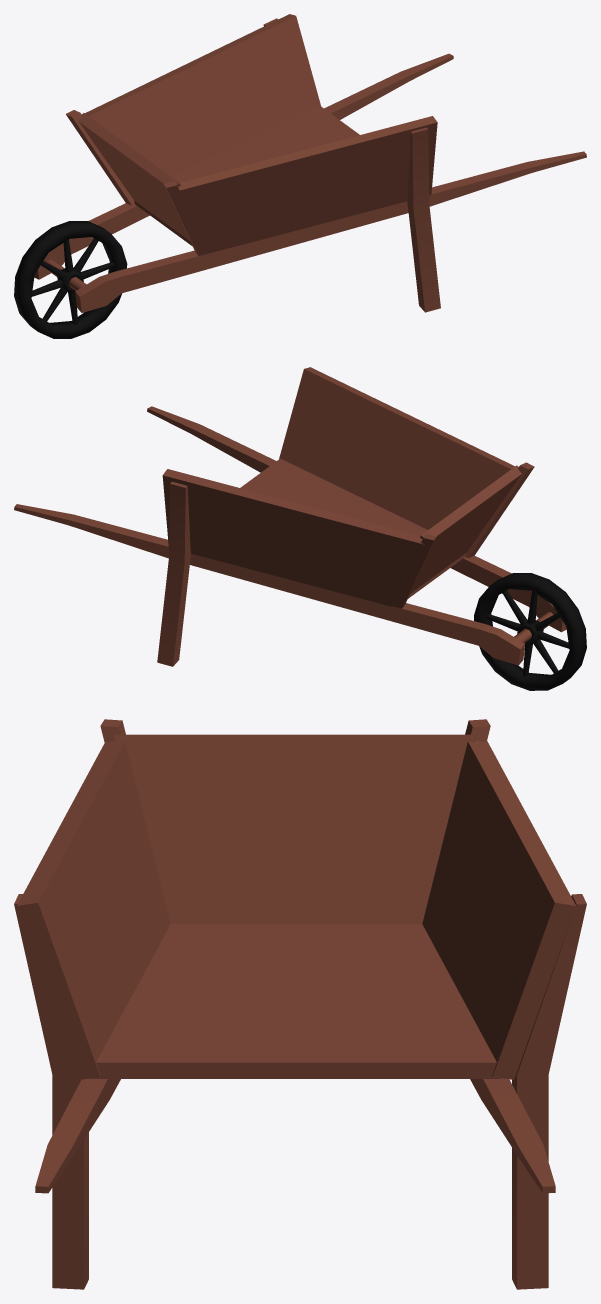
Rendered from hand-truck.obj.
3 views of the same model, one above another, from view 1: azimuth 30°, elevation 25°; view 2: azimuth 150°, elevation 25°; view 3: azimuth 270°, elevation 25° (orthographic). The views are drawn at different scales.
Parts seen in each view (by area): view 1: Pushcart, wheels; view 2: Pushcart, wheels; view 3: Pushcart.
Boxes of the visible parts, x1,y1,x2,y2 form: Pushcart: (34,14,586,312); wheels: (14,221,127,338); Pushcart: (14,367,566,666); wheels: (474,573,586,690); Pushcart: (14,719,586,1289).
Bounding box in the file's own units: 6.61 × 2.52 × 3.46.
